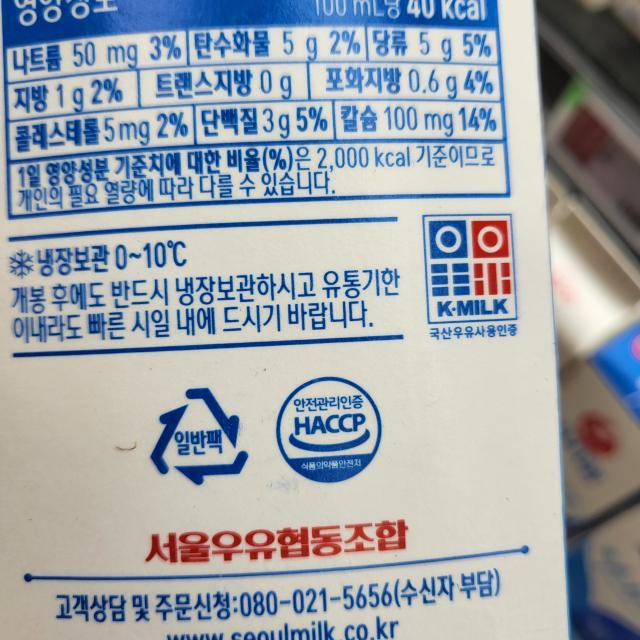NormalPack: (148, 380, 258, 492)
